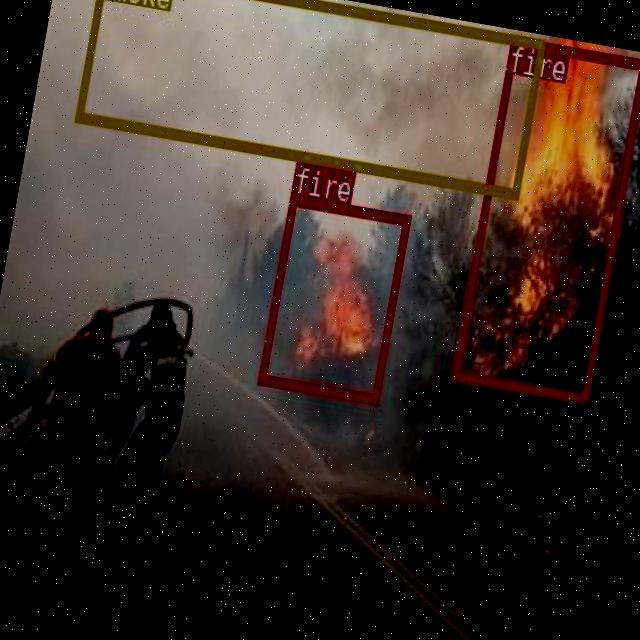fire: (449, 34, 640, 402), (256, 192, 409, 402)
smoke: (73, 0, 543, 198)
